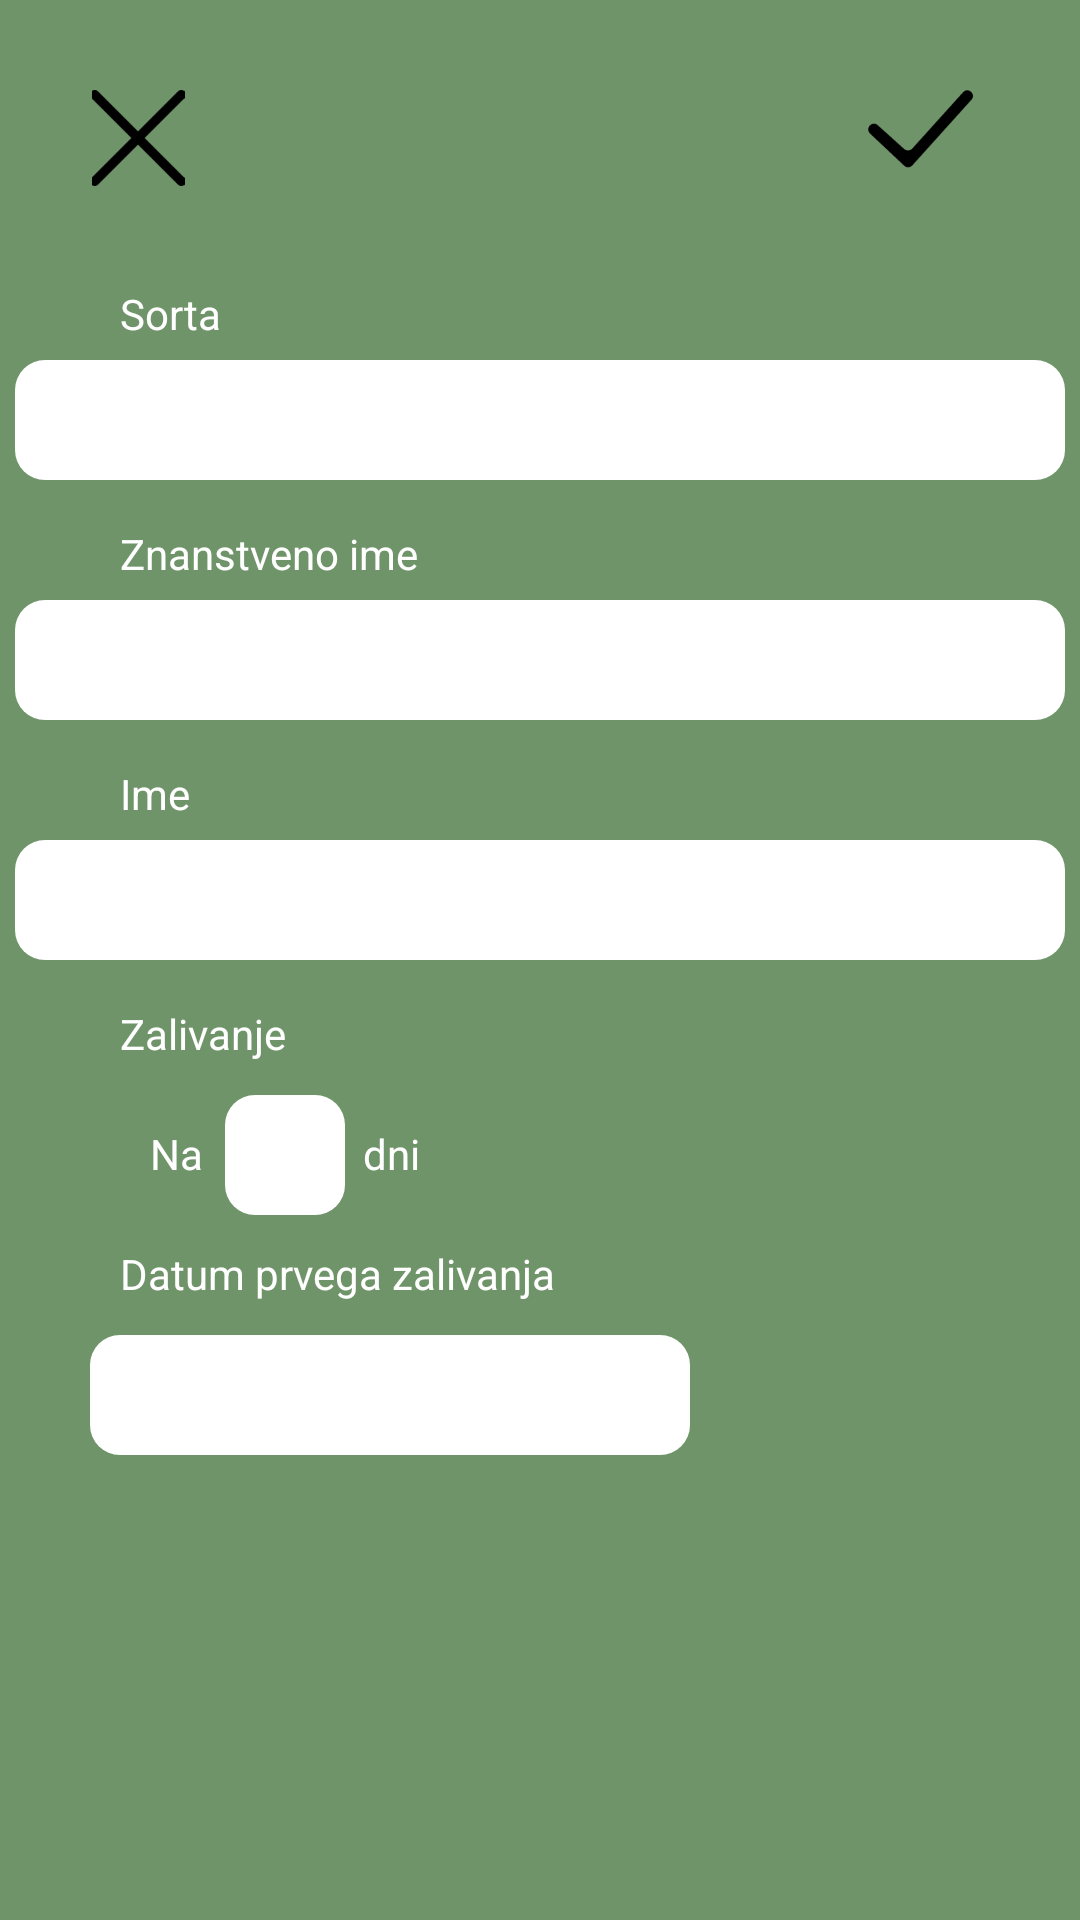

Screen size 1080 x 1920. Icon name, then its center in pixels as (x=x, y=y):
close: (x=138, y=138)
tik: (x=920, y=129)
